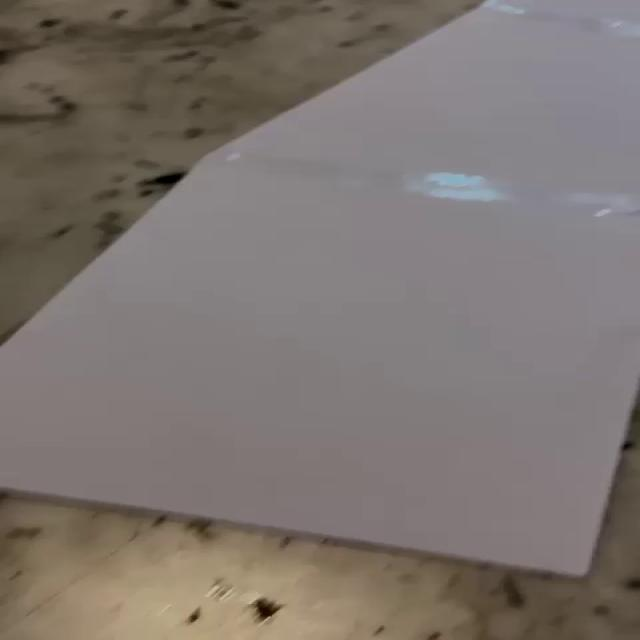road: (0, 0, 640, 580)
